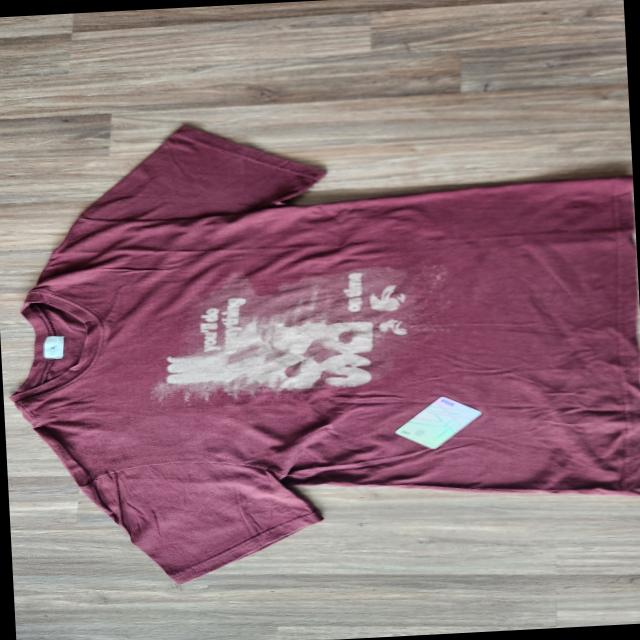card: (395, 394, 481, 447)
